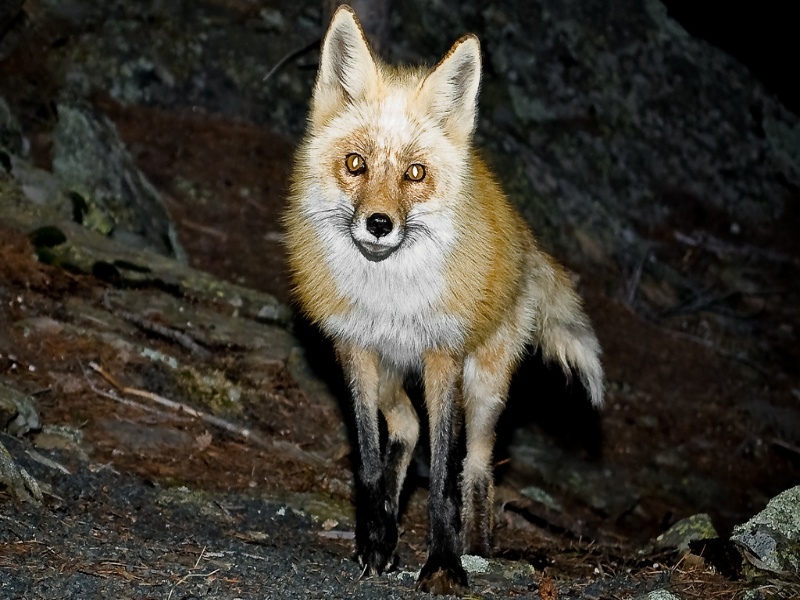fox: (275, 8, 611, 595)
